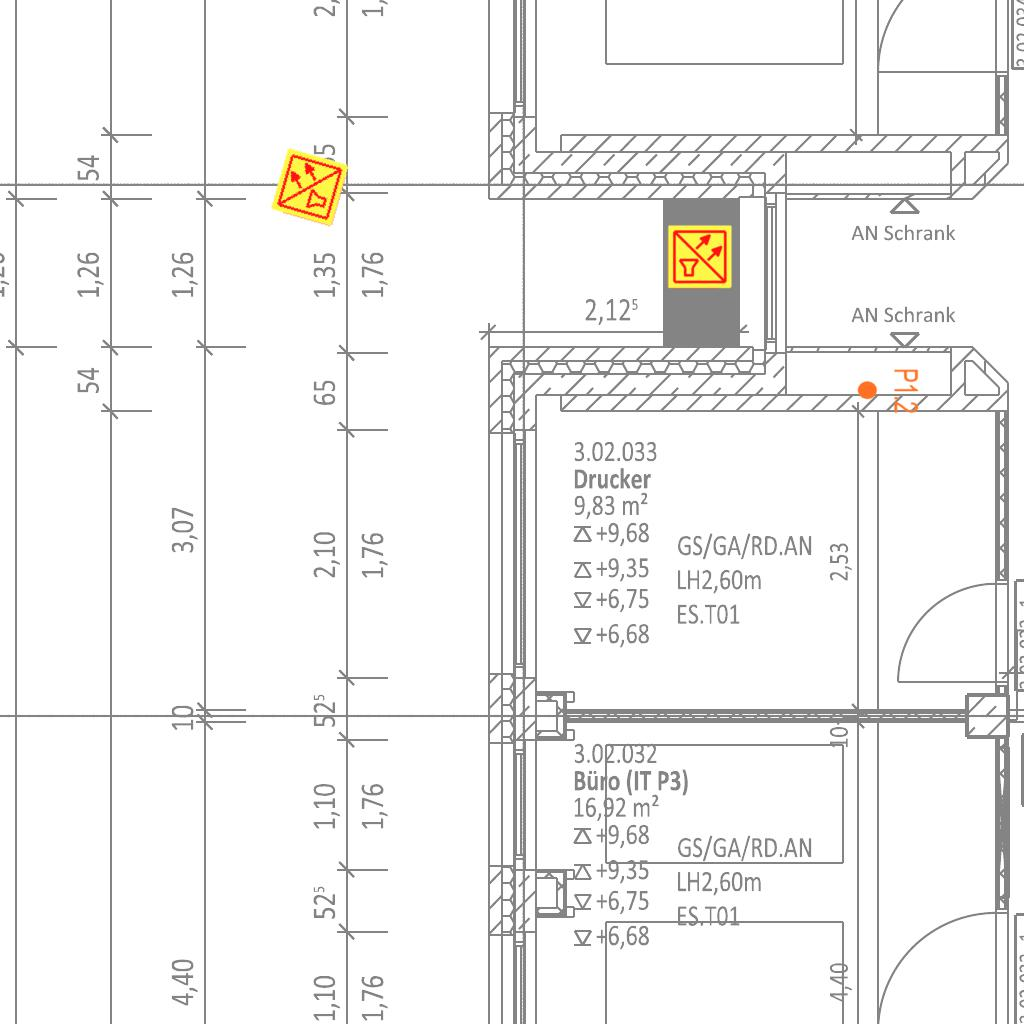Downlight_LED_Einbauleuchten_Flur: (856, 368, 920, 414)
OKW_Multisensormelder_(Kombination_optischer_Rauch-Kahlenmonoxid_Waerme-Melder): (269, 146, 351, 228), (667, 224, 733, 290)
